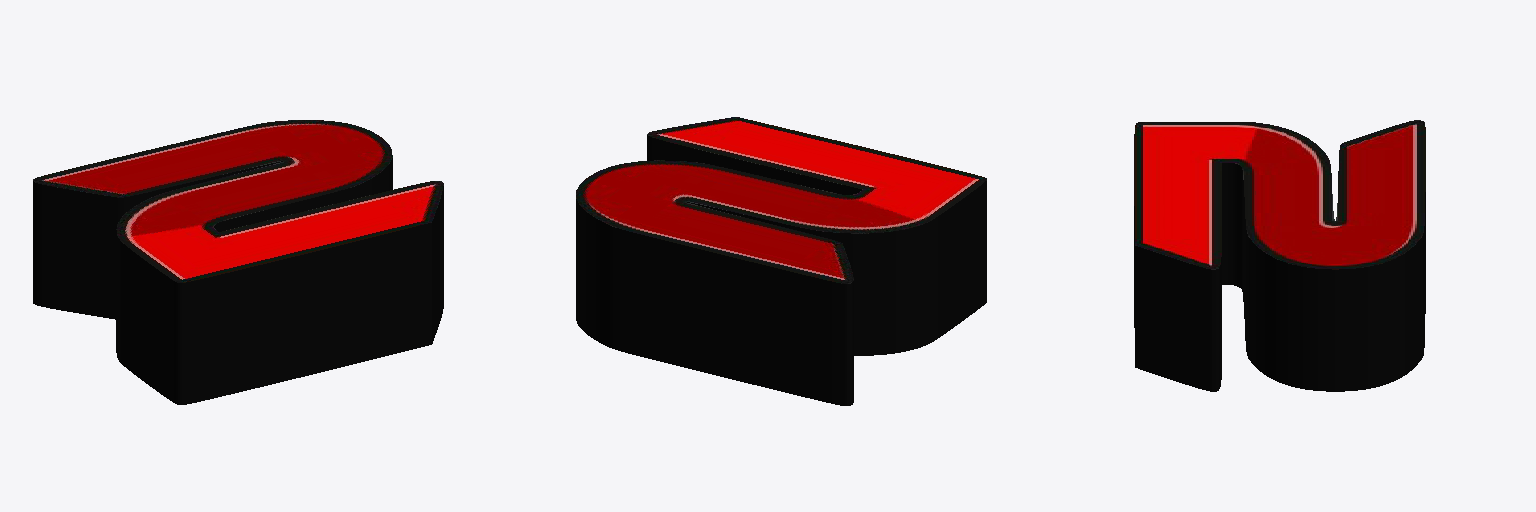
3 renders of one model, left to right at view 1: azimuth 30°, elevation 25°; view 2: azimuth 150°, elevation 25°; view 3: azimuth 270°, elevation 25°, orthographic.
Parts seen in each view (by area): view 1: Shape1; view 2: Shape1; view 3: Shape1.
Boxes of the visible parts, x1,y1,x2,y2 form: Shape1: [33, 120, 443, 404]; Shape1: [576, 117, 986, 405]; Shape1: [1134, 120, 1425, 391].
Bounding box in the file's own units: 2.62 × 1 × 2.17.
Materials: 3 (2 with a texture image).